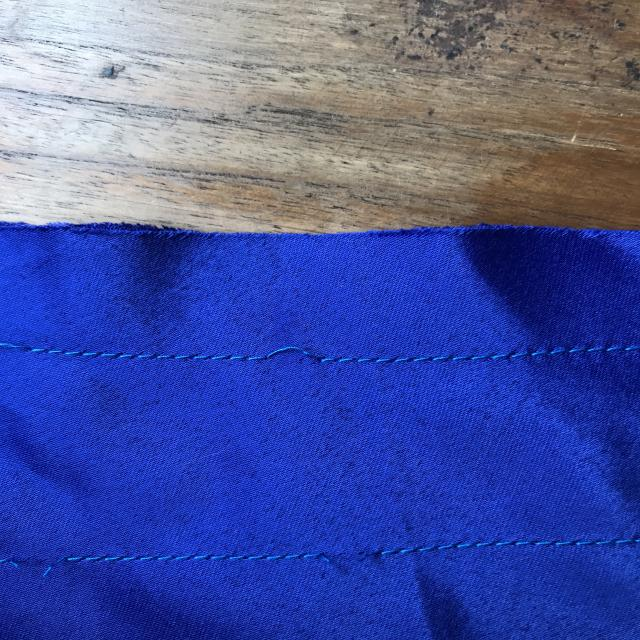broken: (303, 510, 395, 584)
good: (417, 338, 576, 374)
skip: (233, 335, 334, 385)
